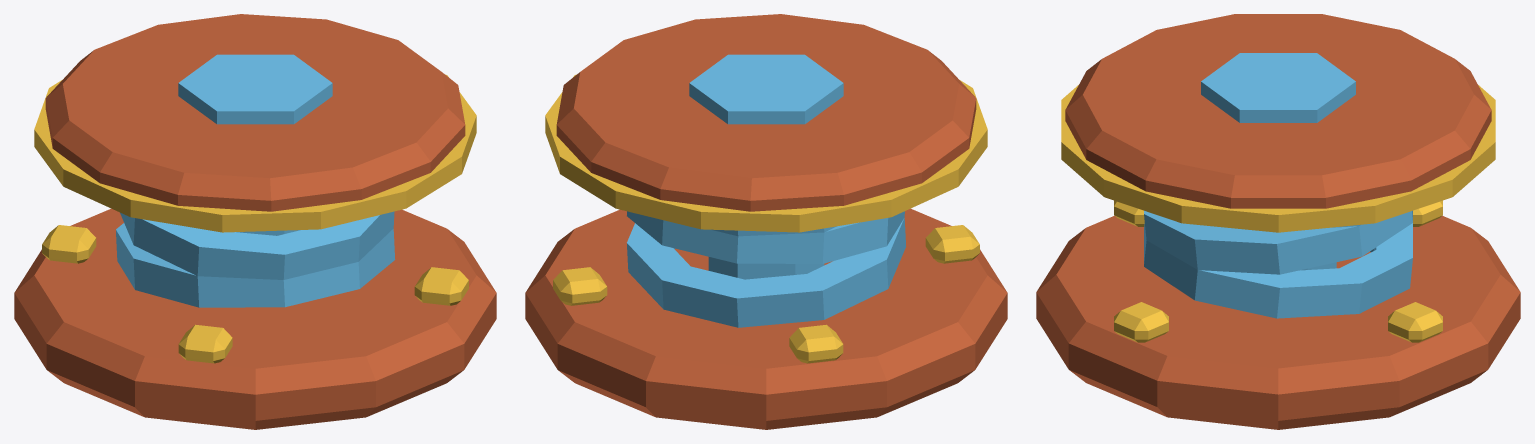
Rendered from spring_pad.obj.
3 renders of one model, left to right at view 1: azimuth 30°, elevation 25°; view 2: azimuth 150°, elevation 25°; view 3: azimuth 270°, elevation 25°, orthographic.
Visible parts, largest first — view 1: spring_pad; view 2: spring_pad; view 3: spring_pad.
Part boxes in pixels (box(x1,y1,x2,y2)): spring_pad: box(14, 14, 496, 429); spring_pad: box(525, 14, 1007, 429); spring_pad: box(1036, 14, 1520, 429).
Size of the model in its own units: 1 by 0.58 by 1.
